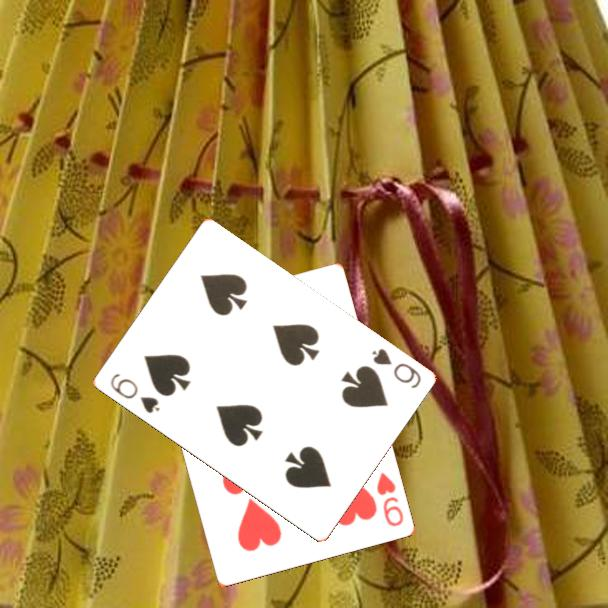h09: (373, 468, 406, 529)
s06: (368, 345, 424, 392), (106, 370, 162, 416)
